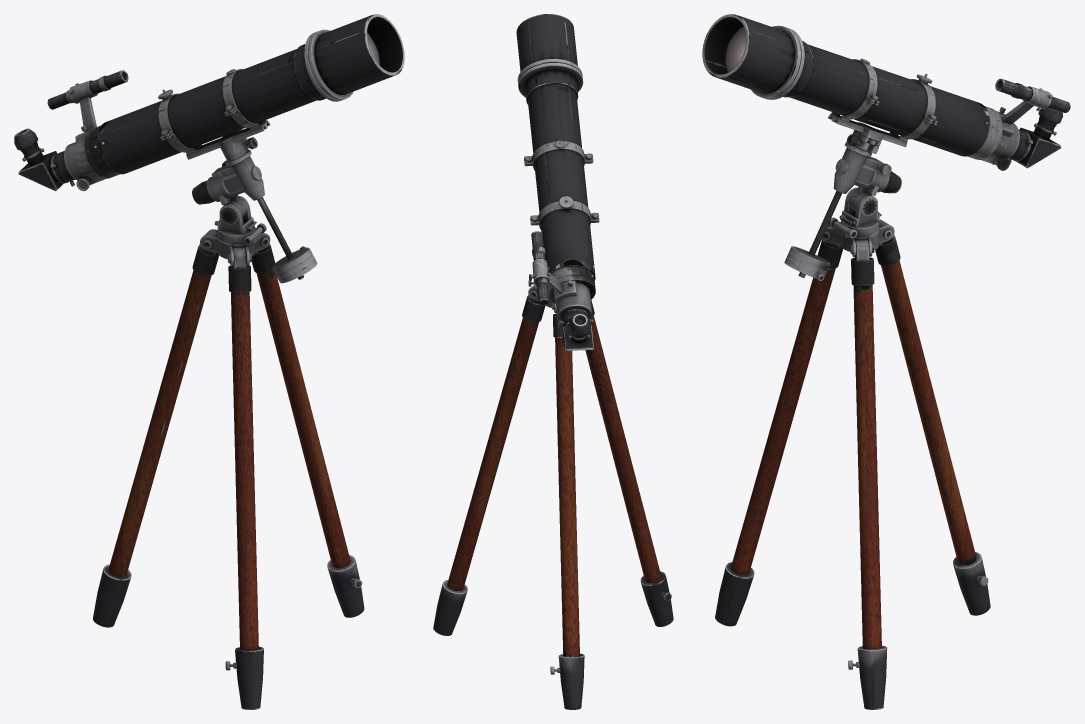
File: Teleskop.glb
The picture shows the model from 3 angles, left to right: view 1: azimuth 30°, elevation 25°; view 2: azimuth 150°, elevation 25°; view 3: azimuth 270°, elevation 25°; orthographic projection. The views are drawn at different scales.
Visible parts, largest first — view 1: Object_3.001; view 2: Object_3.001; view 3: Object_3.001.
Boxes of the visible parts, <box> form: Object_3.001: <box>14,14,404,709</box>; Object_3.001: <box>433,14,673,709</box>; Object_3.001: <box>702,14,1070,709</box>.
Size of the model in its own units: 0.7482 by 1.8 by 0.8964.
Materials: 1 (1 with a texture image).
